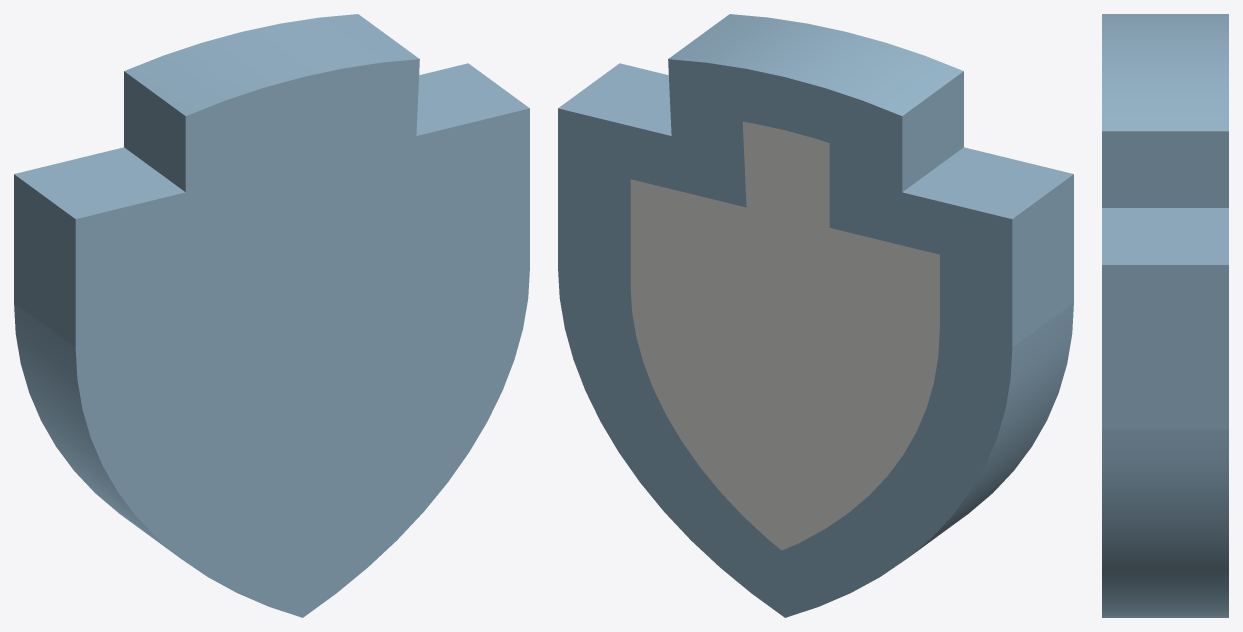
File: shieldBlue.glb
The picture shows the model from 3 angles, left to right: view 1: azimuth 30°, elevation 25°; view 2: azimuth 150°, elevation 25°; view 3: azimuth 270°, elevation 25°; orthographic projection. The views are drawn at different scales.
Visible parts, largest first — view 1: shieldBlue; view 2: shieldBlue; view 3: shieldBlue.
Boxes of the visible parts, x1,y1,x2,y2 form: shieldBlue: (14,14,529,617); shieldBlue: (558,14,1073,617); shieldBlue: (1102,14,1228,617).
Size of the model in its own units: 2.4 by 2.73 by 0.564.
